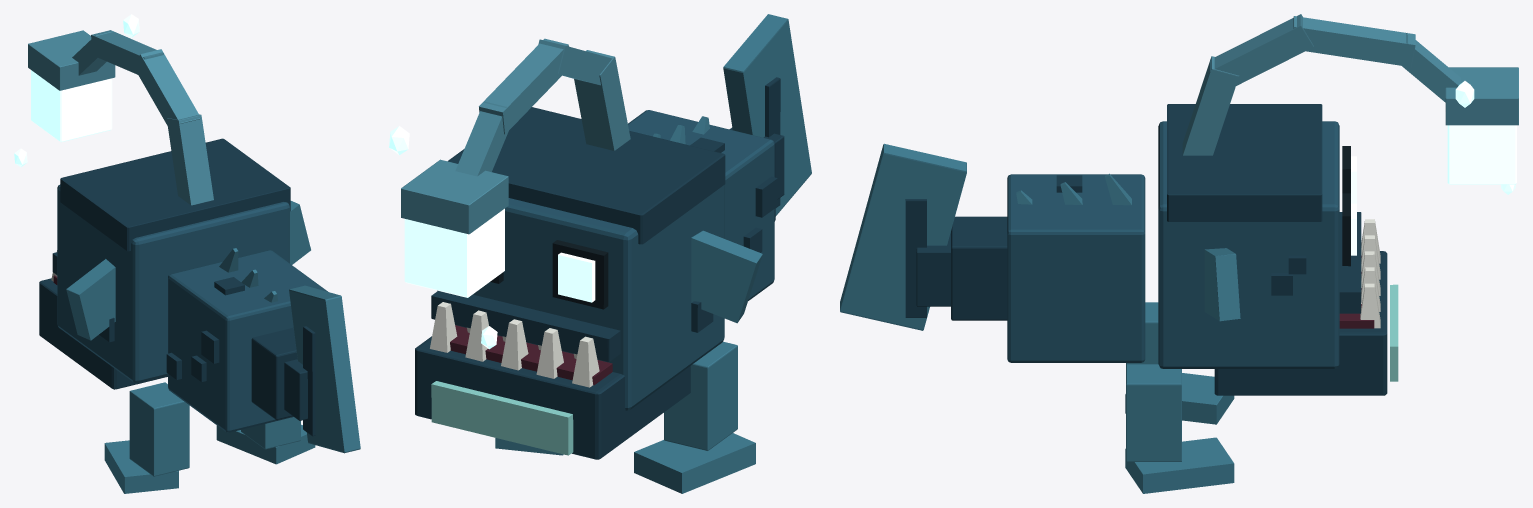
File: anglerkin.glb
The picture shows the model from 3 angles, left to right: view 1: azimuth 30°, elevation 25°; view 2: azimuth 150°, elevation 25°; view 3: azimuth 270°, elevation 25°; orthographic projection. The views are drawn at different scales.
Visible parts, largest first — view 1: head, body, fin.tail, leg.FR, fin.R, leg.FL, fin.L; view 2: head, leg.FR, fin.tail, body, fin.R; view 3: head, body, fin.tail, leg.FL, leg.FR, fin.L.
Part boxes in pixels (x1,y1,x2,y2): head: [14, 14, 290, 389]; body: [166, 248, 327, 432]; fin.tail: [284, 285, 360, 453]; leg.FR: [104, 382, 189, 493]; fin.R: [66, 259, 115, 340]; leg.FL: [216, 417, 315, 464]; fin.L: [290, 201, 310, 264]; head: [389, 38, 725, 459]; leg.FR: [634, 341, 755, 493]; fin.tail: [723, 14, 811, 216]; body: [628, 110, 777, 300]; fin.R: [691, 230, 762, 323]; head: [1158, 14, 1518, 395]; body: [951, 173, 1145, 362]; fin.tail: [840, 143, 966, 330]; leg.FL: [1125, 364, 1234, 493]; leg.FR: [1125, 302, 1234, 424]; fin.L: [1204, 248, 1240, 321].
Bounding box in the file's own units: 0.7088 × 1 × 1.46.
